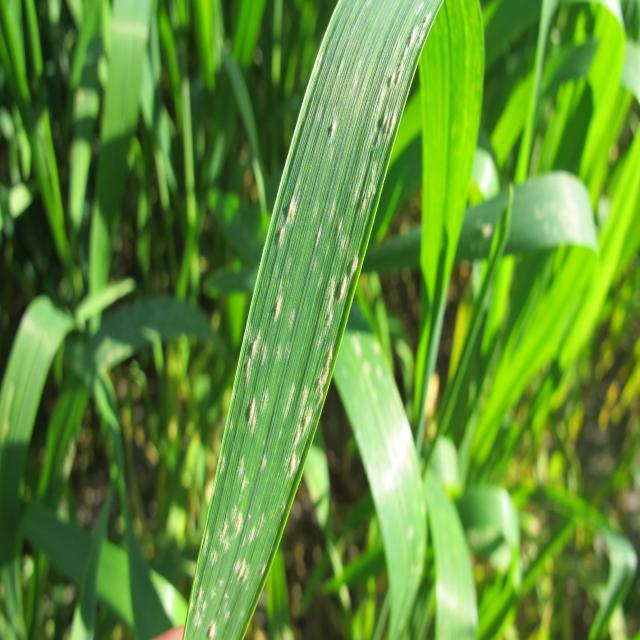wheat-powdery-mildew: (182, 0, 450, 640)
